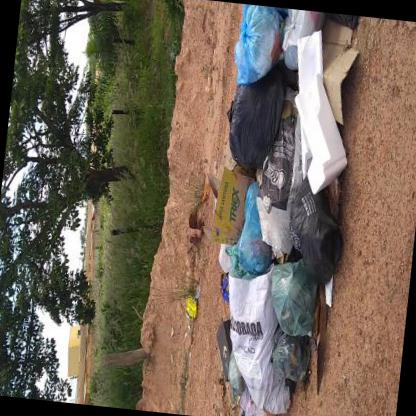lixo: (193, 2, 362, 394)
